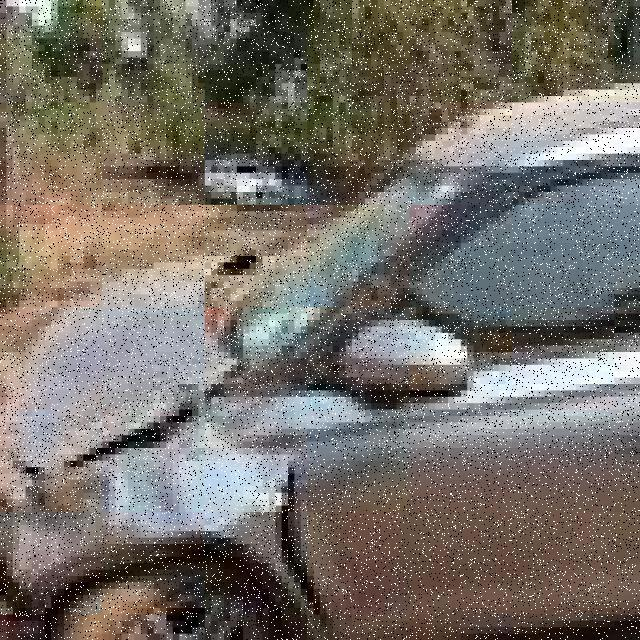bonnet-dent: (7, 231, 231, 455)
fender-dent: (0, 448, 301, 595)
